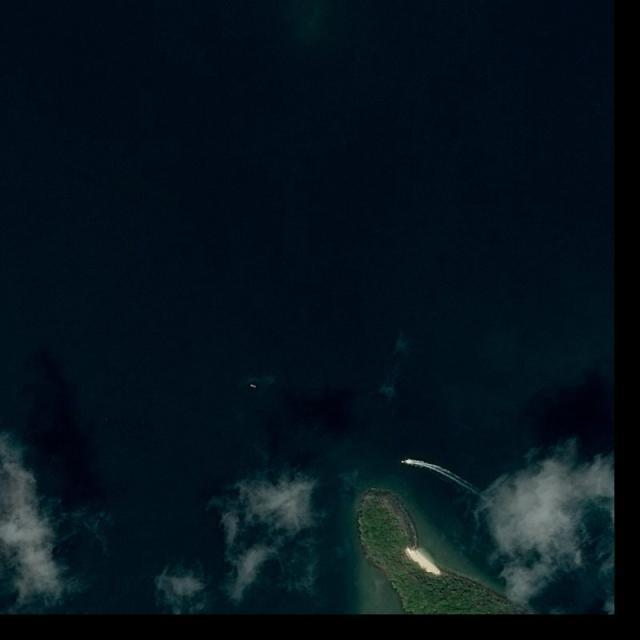ship: (250, 384, 257, 389), (401, 460, 407, 463)
